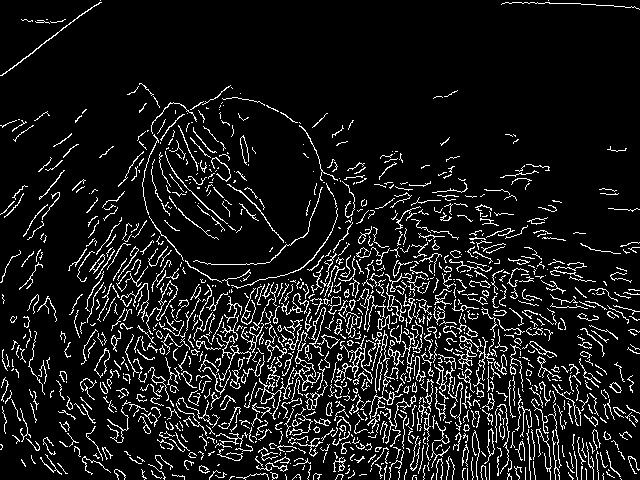onion: (123, 80, 353, 300)
